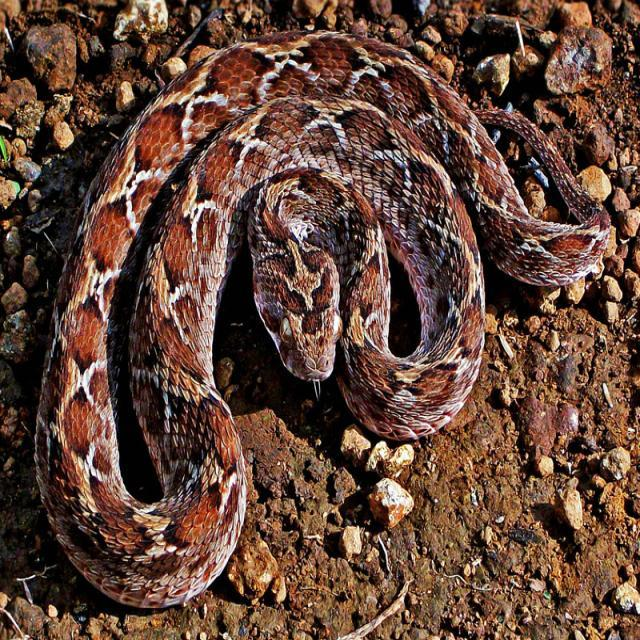Snake: (32, 27, 611, 610)
